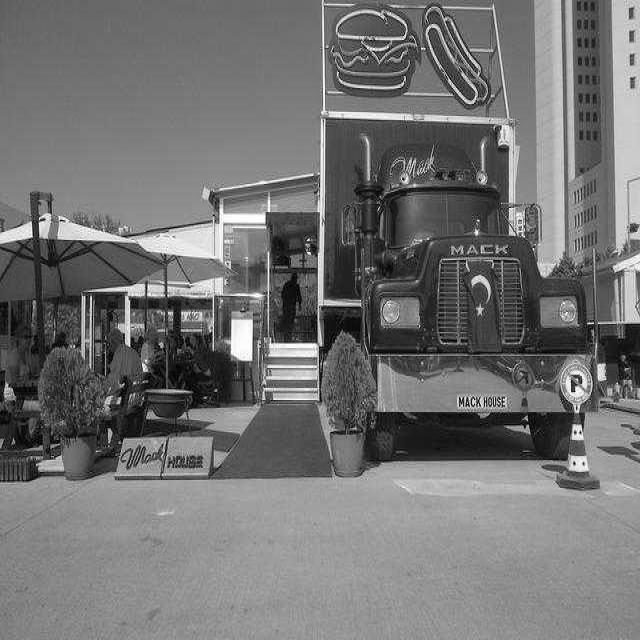Truck: (317, 3, 595, 460)
